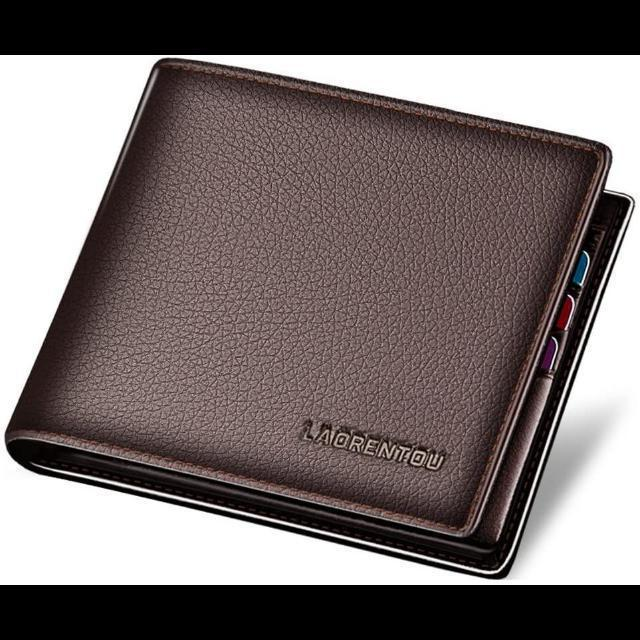wallet: (6, 54, 636, 576)
